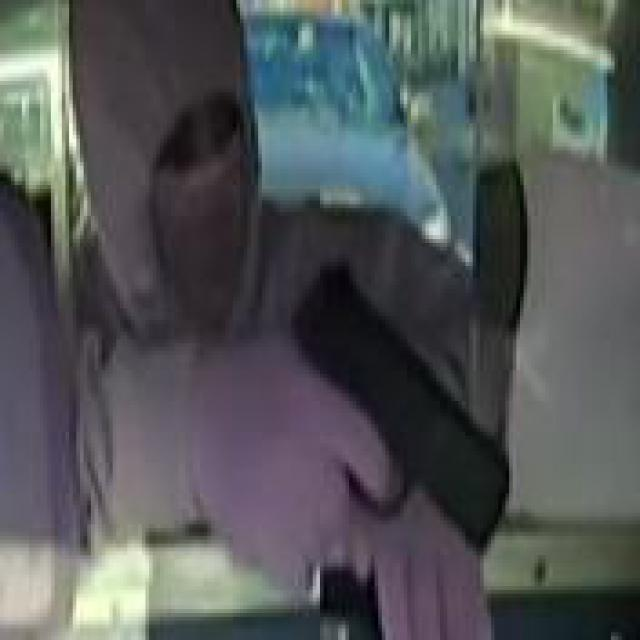Gun: (276, 258, 509, 567)
